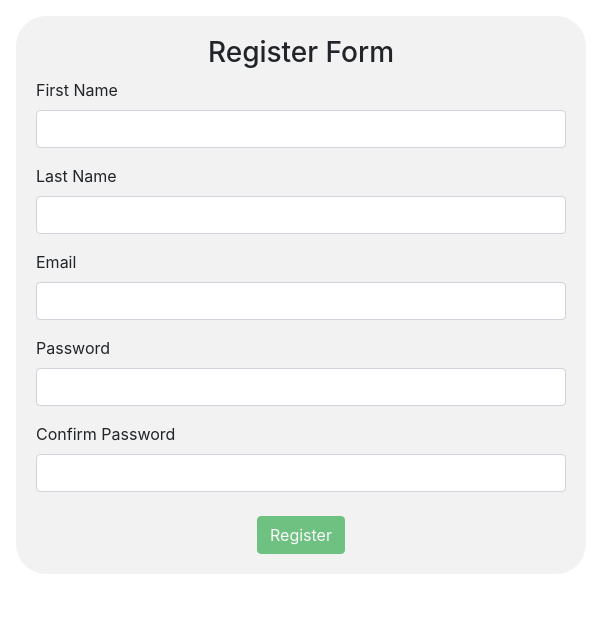
Test: register page › test password validation › fill password with 7 characters, expect error saying *Password must have at least 8 characters
Type "qwertyu" into the 1st password field named "password" at (301, 387), box [36,368,566,406]
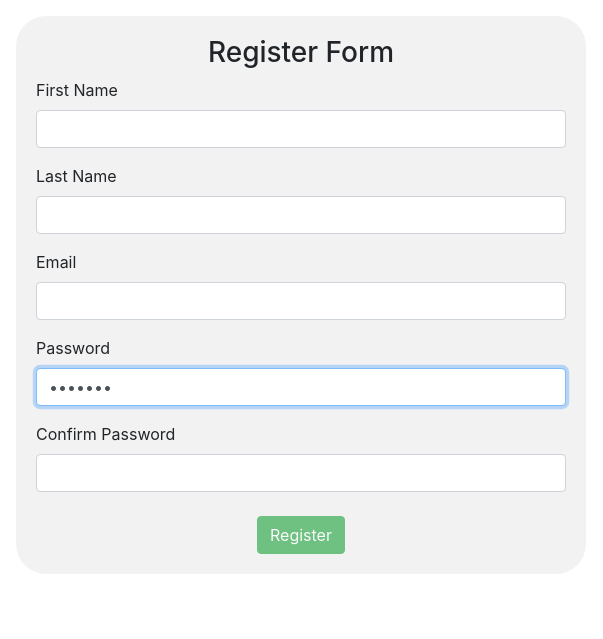
Focus the password field named "confirmPassword" below "Confirm Password" at (301, 473), box [36,454,566,492]
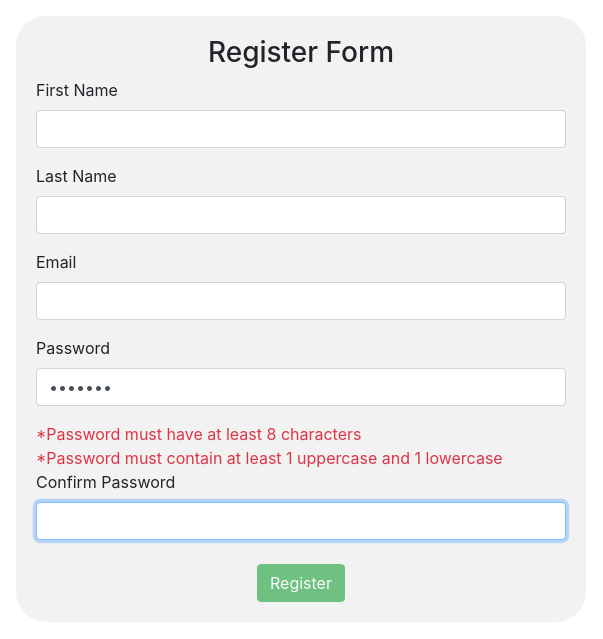
Expected: the text "*Password must have at least 8 characters" is shown, [36,424,362,444]
